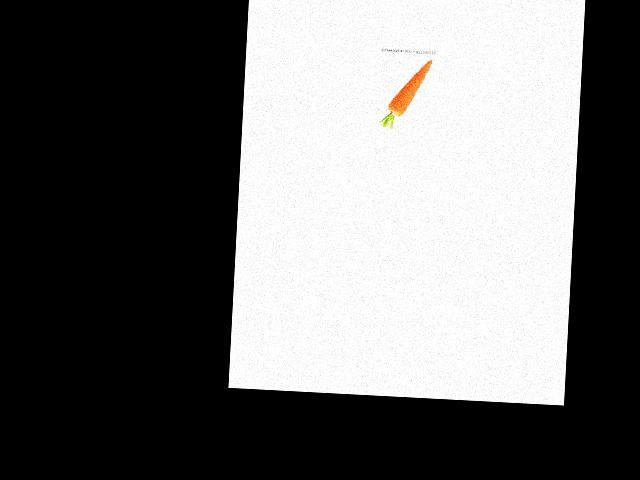carrot: (381, 55, 436, 122)
